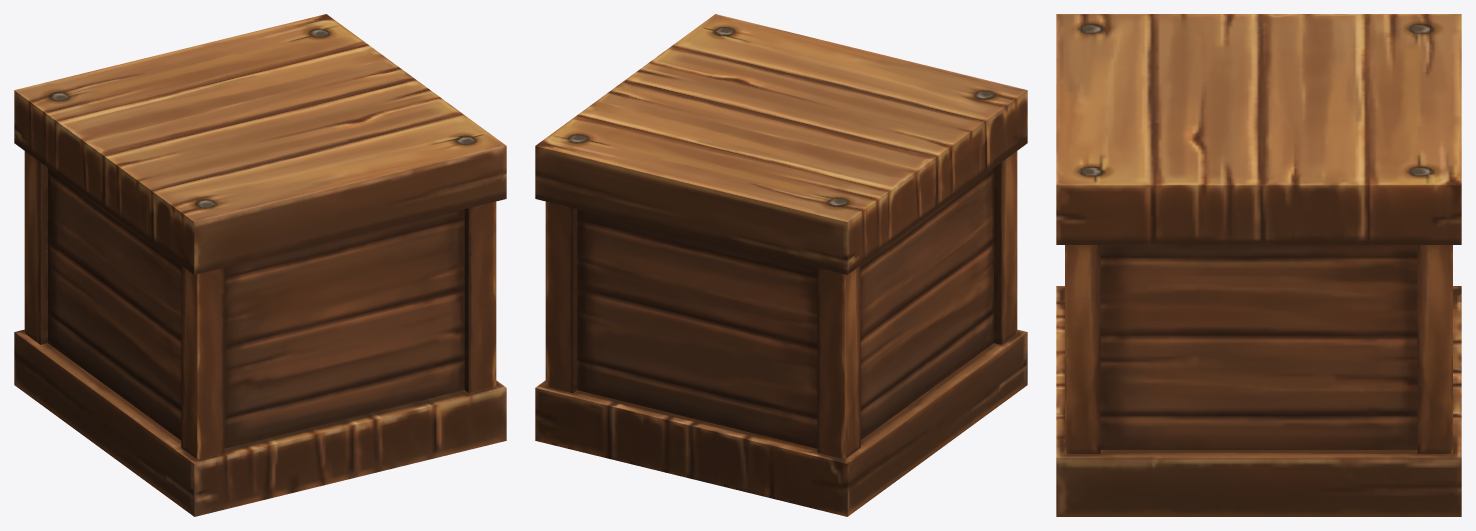
The picture shows the model from 3 angles, left to right: view 1: azimuth 30°, elevation 25°; view 2: azimuth 150°, elevation 25°; view 3: azimuth 270°, elevation 25°; orthographic projection. The views are drawn at different scales.
Parts seen in each view (by area): view 1: 21_box; view 2: 21_box; view 3: 21_box.
Boxes of the visible parts, x1,y1,x2,y2 form: 21_box: (14, 14, 506, 516); 21_box: (535, 14, 1027, 516); 21_box: (1056, 14, 1461, 516).
Size of the model in its own units: 49.06 by 44.25 by 49.06.
